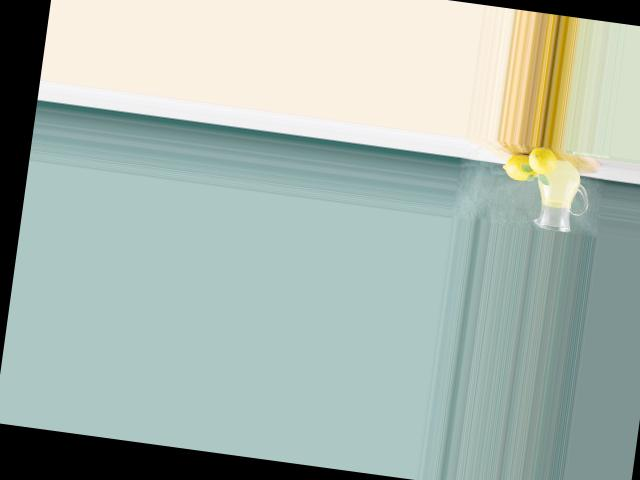lemon: (521, 146, 559, 178)
